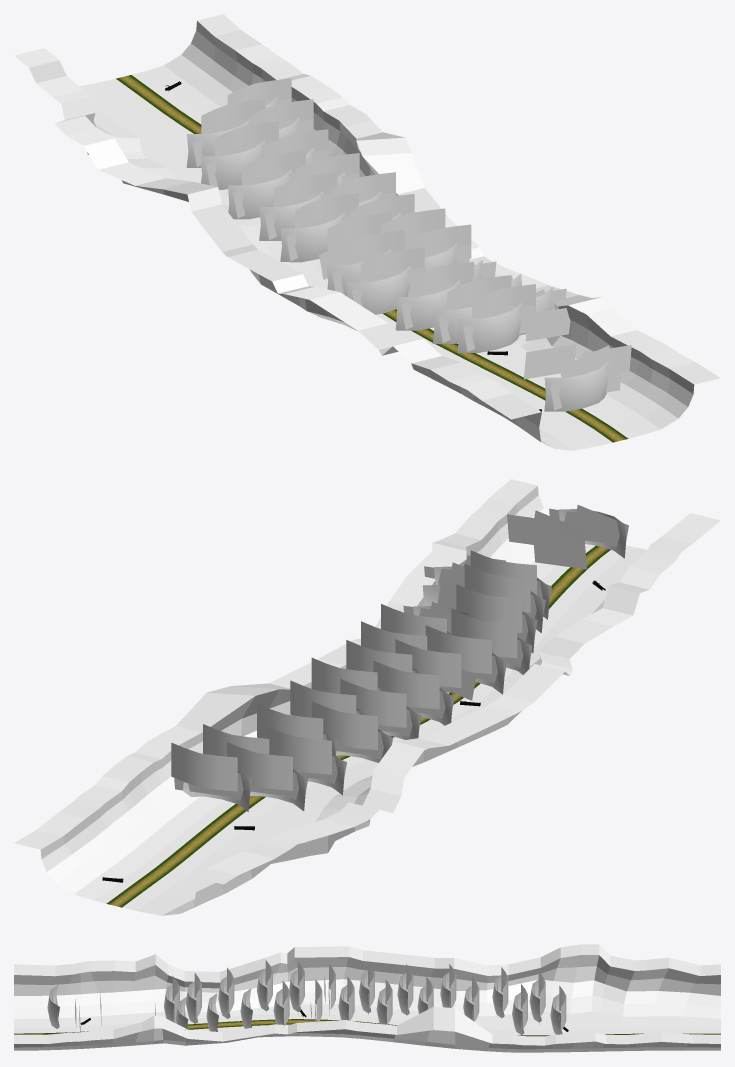
Rendered from what.fbx.
The picture shows the model from 3 angles, top to bottom: view 1: azimuth 30°, elevation 25°; view 2: azimuth 150°, elevation 25°; view 3: azimuth 270°, elevation 25°; orthographic projection. The views are drawn at different scales.
Visible parts, largest first — view 1: polySurface2926, floor; view 2: polySurface2926, floor; view 3: polySurface2926, floor.
Boxes of the visible parts, x1=… form: polySurface2926: x1=14, y1=14, x2=720, y2=450; floor: x1=116, y1=75, x2=628, y2=442; polySurface2926: x1=14, y1=479, x2=720, y2=915; floor: x1=106, y1=545, x2=610, y2=907; polySurface2926: x1=14, y1=944, x2=720, y2=1052; floor: x1=14, y1=1019, x2=720, y2=1036.
Bounding box in the file's own units: 23190 × 5717 × 76200.
